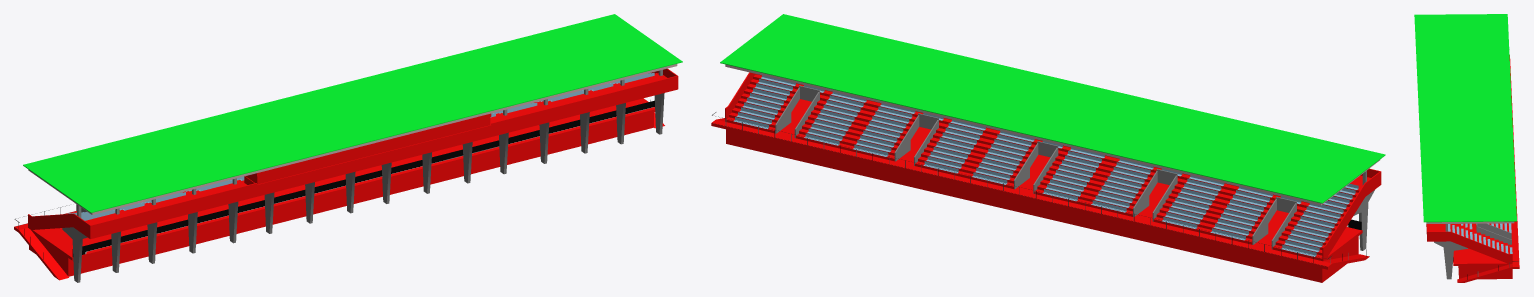
The model's file is Tribune_New_1.fbx.
3 views of the same model, side by side, from view 1: azimuth 30°, elevation 25°; view 2: azimuth 150°, elevation 25°; view 3: azimuth 270°, elevation 25° (orthographic). The views are drawn at different scales.
Visible parts, largest first — view 1: Tribune_New_1.005; view 2: Tribune_New_1.005; view 3: Tribune_New_1.005.
Part boxes in pixels (x1,y1,x2,y2): Tribune_New_1.005: [14, 14, 682, 282]; Tribune_New_1.005: [711, 14, 1385, 282]; Tribune_New_1.005: [1414, 14, 1519, 282].
Bounding box in the file's own units: 9070 × 1175 × 1897.
